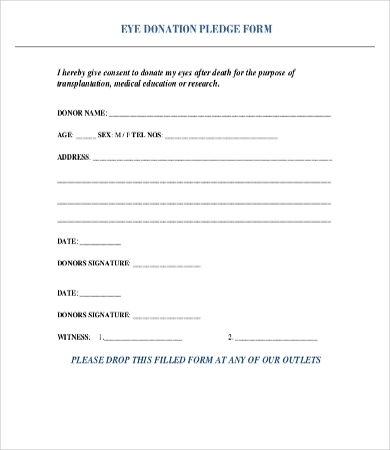textline: (52, 207, 338, 226), (53, 190, 337, 209), (55, 168, 336, 186), (91, 148, 335, 164), (107, 104, 334, 119), (163, 124, 281, 142), (233, 327, 319, 343), (102, 329, 185, 343), (132, 255, 204, 271), (131, 309, 206, 322), (77, 285, 123, 299), (79, 234, 122, 247), (73, 125, 98, 140)
